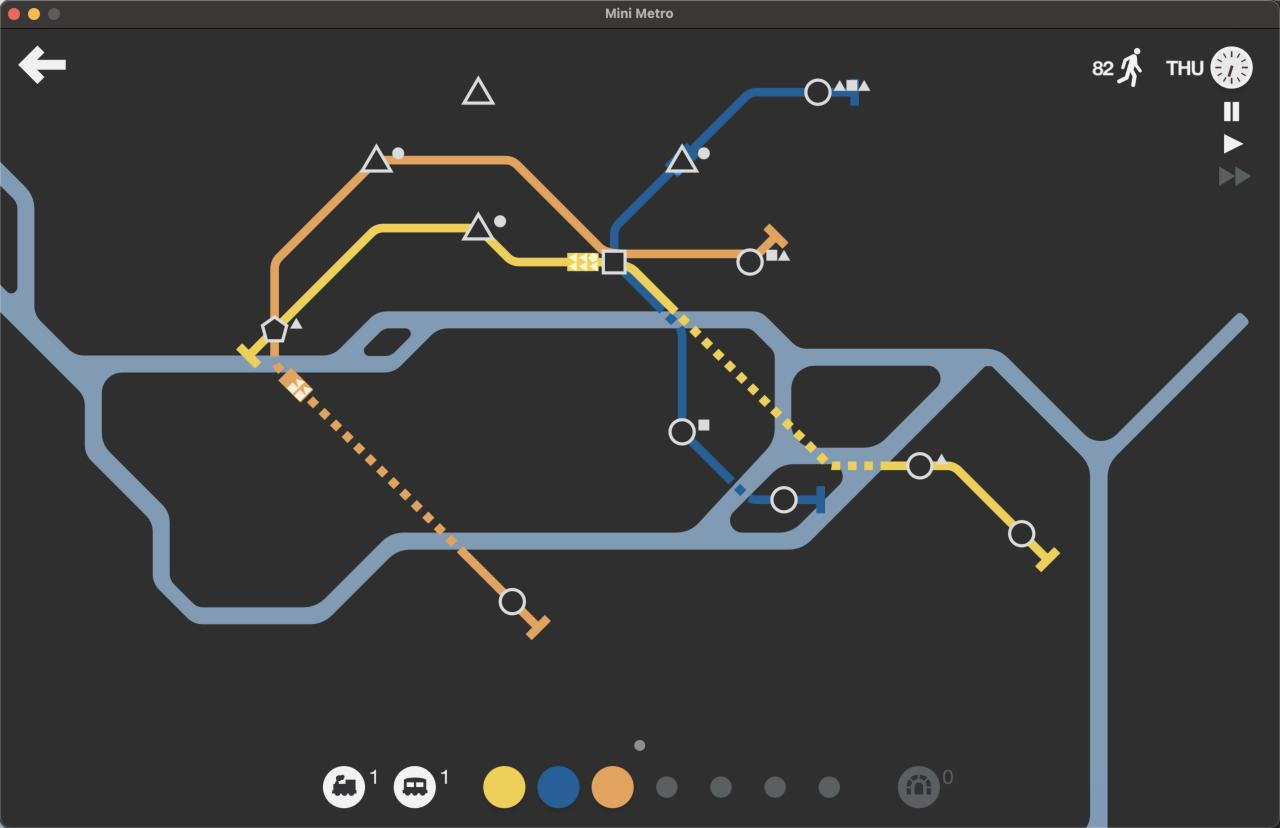CIRCLE: (668, 417, 698, 447), (803, 77, 832, 106), (1008, 519, 1037, 548), (498, 587, 527, 616), (736, 247, 764, 276), (906, 451, 934, 480), (770, 486, 798, 514)
PENTAGON: (261, 315, 291, 345)
SQUARE: (601, 249, 627, 275)
TRIANGLE: (461, 74, 496, 106), (462, 210, 495, 241), (666, 143, 699, 174), (360, 143, 393, 173)
